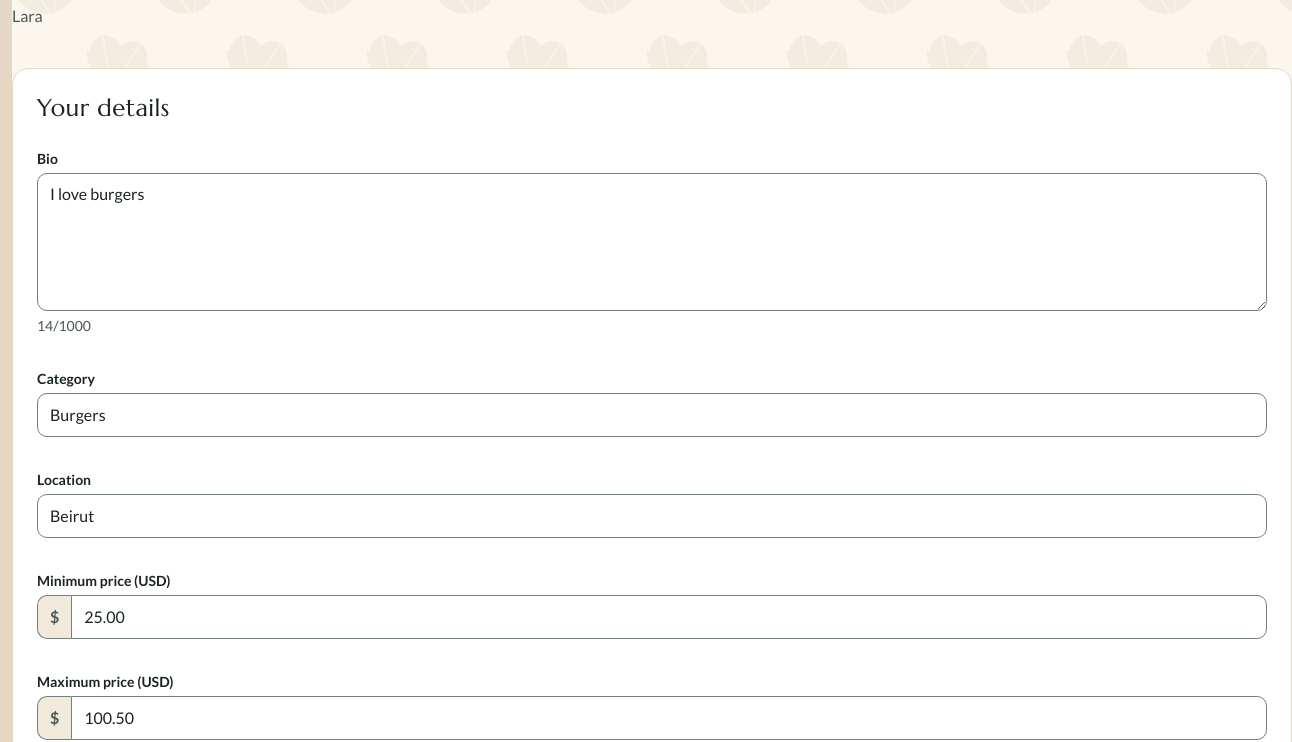
saving the details › sends a full replace with the prices in cents and shows success
This screenshot has width=1292, height=742.
Replace the text in the text box labelled "Bio" with "New bio": (652, 242) [37,173,1267,311]
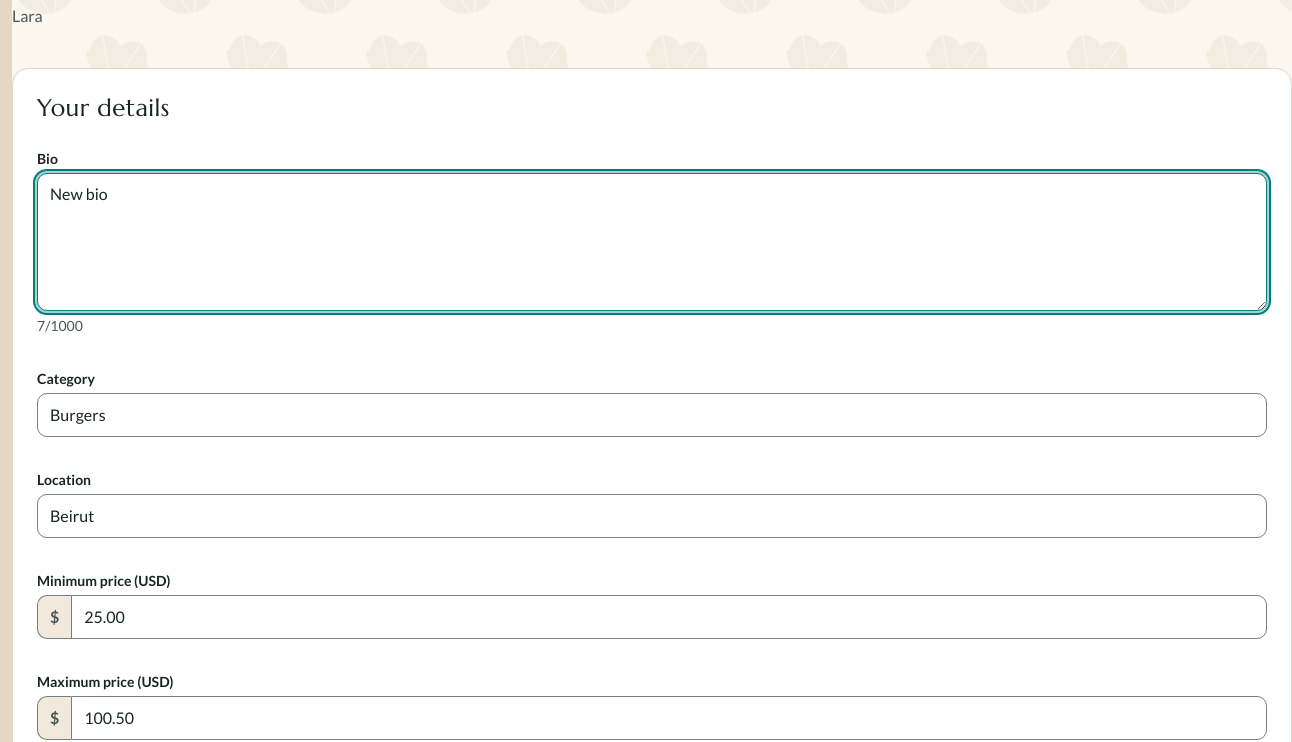
Replace the text in the field labelled "Minimum price (USD)" with "30": (669, 617) [71,595,1267,639]
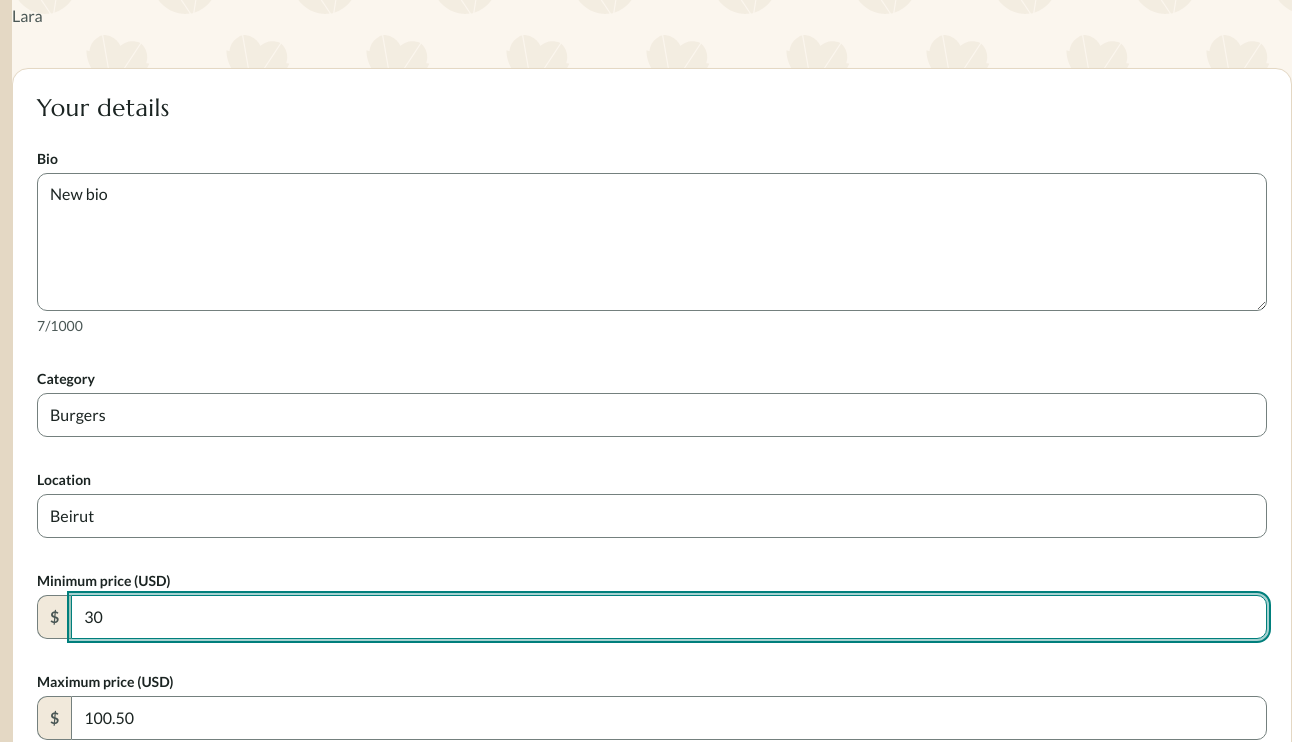
Replace the text in the field labelled "Maximum price (USD)" with "120.5": (669, 718) [71,696,1267,740]
(page scrolled)
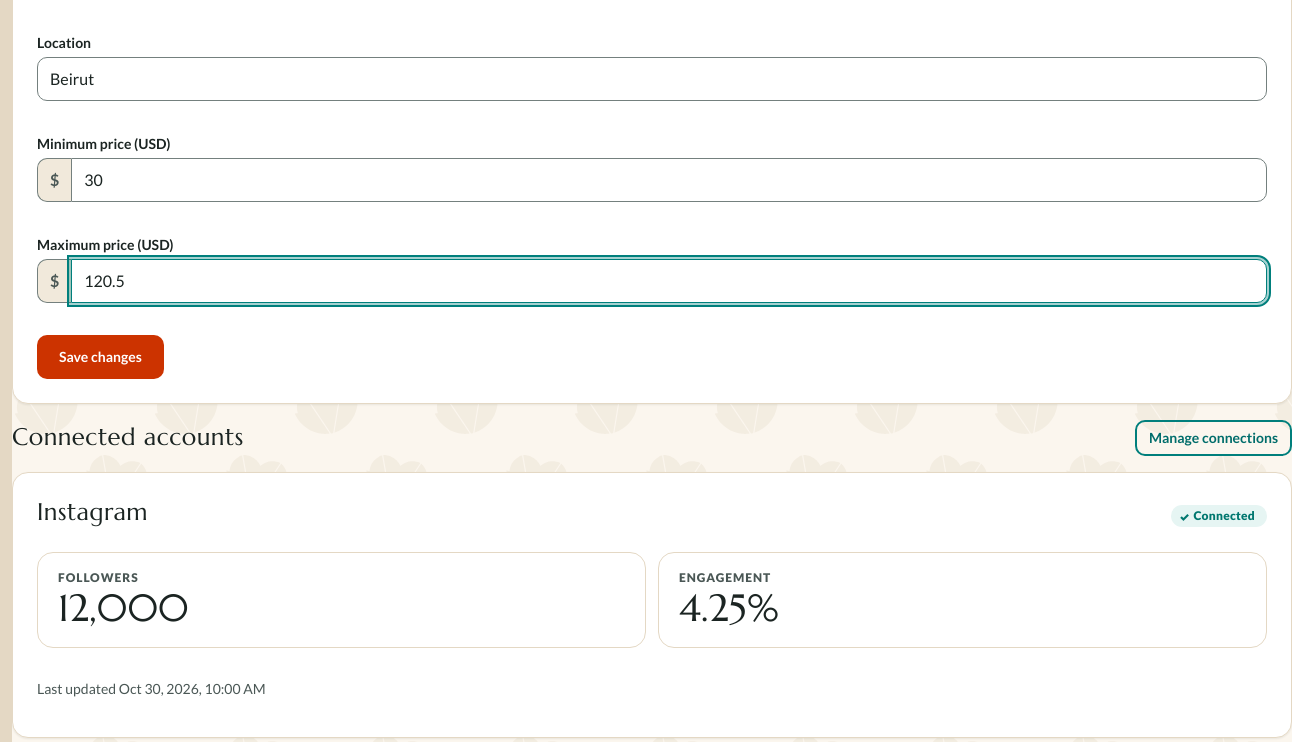
Click the button "Save changes": (100, 357) [37,335,164,379]
(page scrolled)
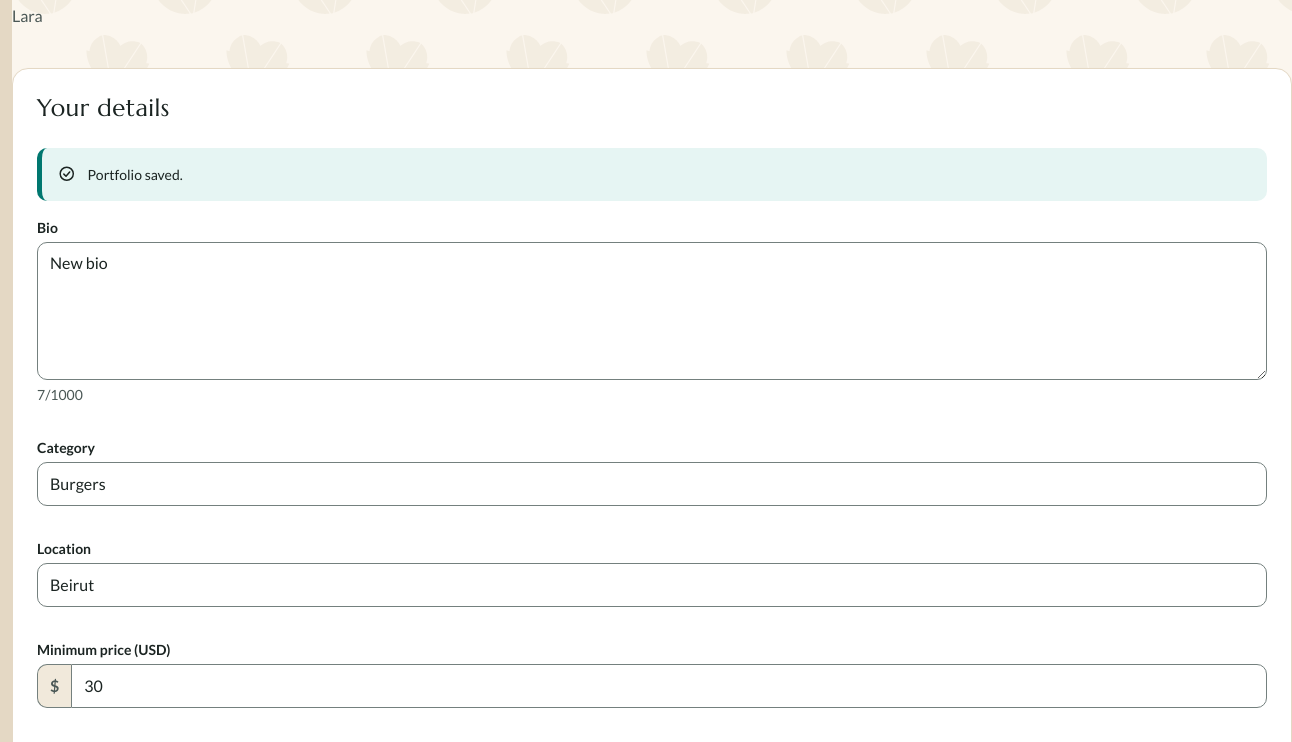
Check: the message reads "Portfolio saved.", box [88,166,183,183]
